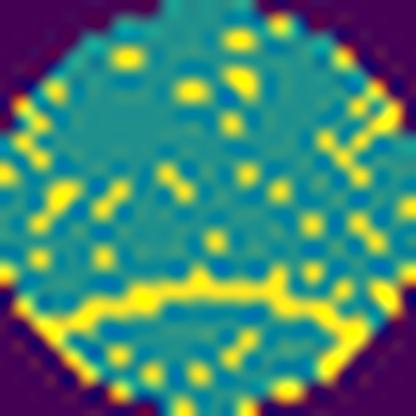Scratch: (13, 260, 376, 390)
